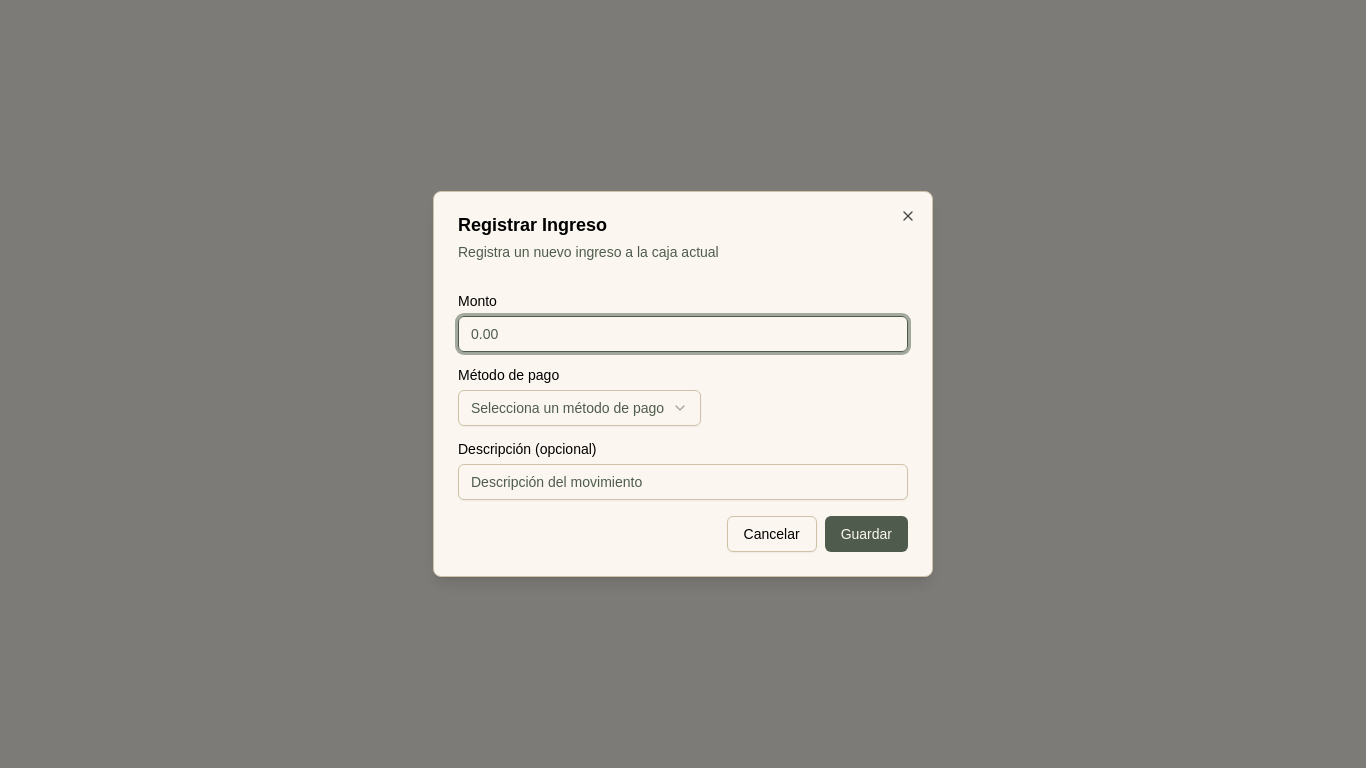
Test: TransactionDialog › shows PAYMENT_METHODS options for income
Click the dropdown "Selecciona un método de pago": (580, 408) [458,390,701,426]
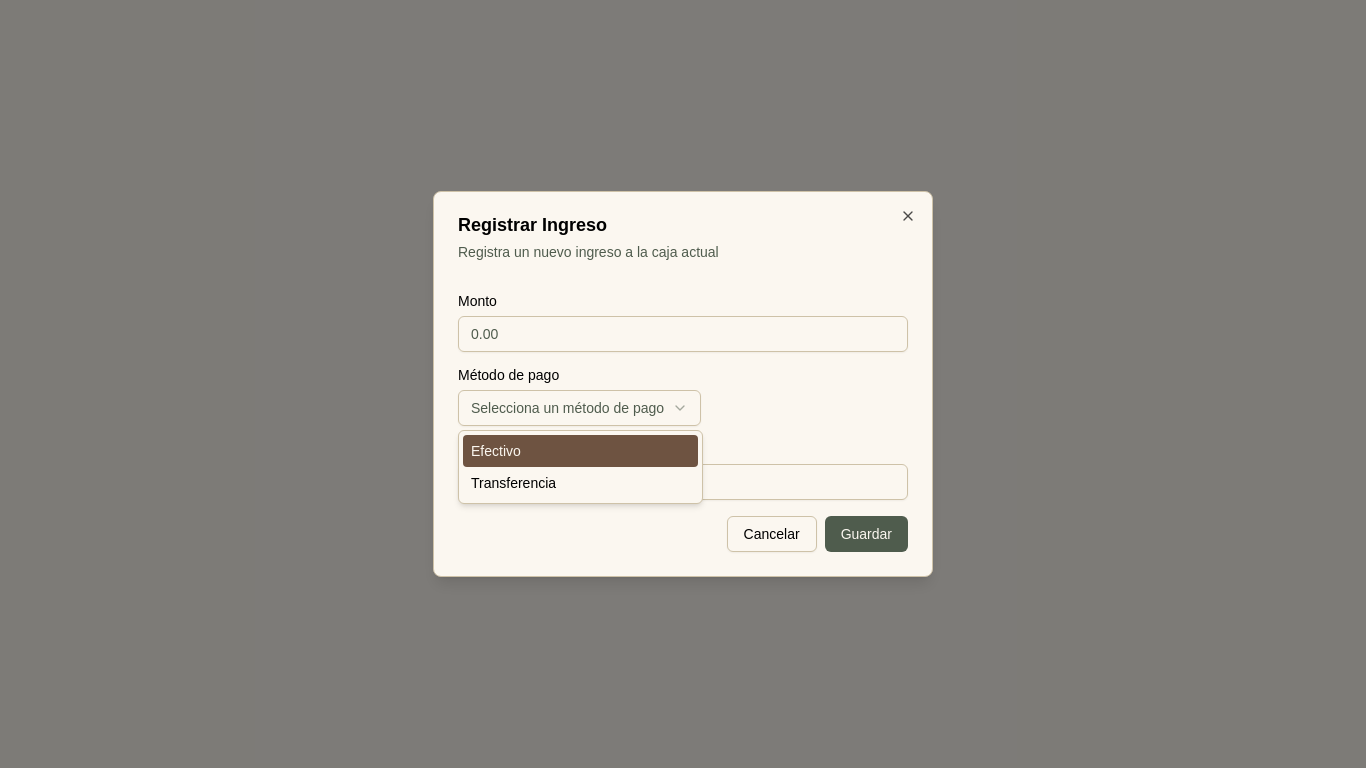
Expected: the option "Efectivo" is shown, [463,435,698,467]
Expected: the option "Transferencia" is shown, [471,475,556,491]
